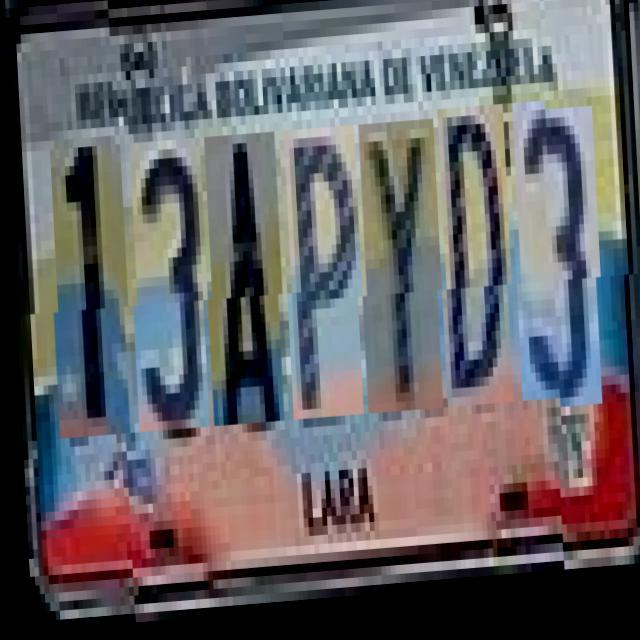1: (48, 146, 130, 448)
3: (510, 106, 602, 410), (128, 141, 210, 434)
A: (202, 136, 284, 429)
D: (436, 113, 514, 414)
P: (282, 131, 364, 424)
Y: (357, 126, 442, 419)
